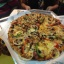pizza: (9, 12, 63, 57)
